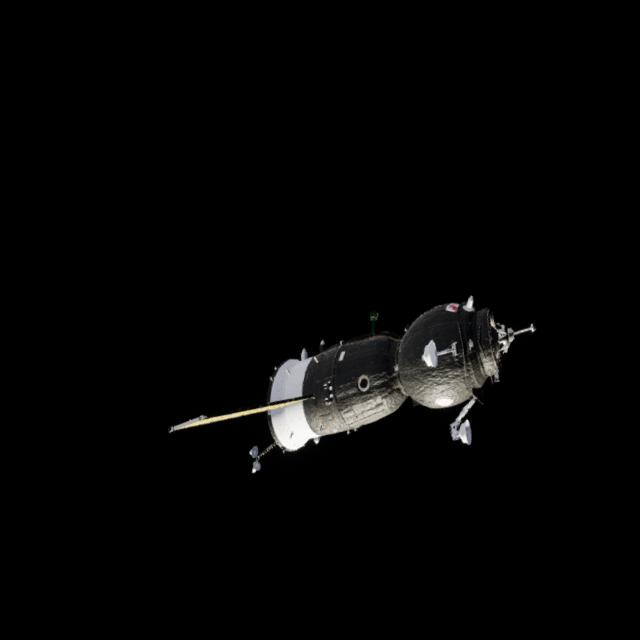Satellites revolving around earth: (160, 231, 542, 531)
